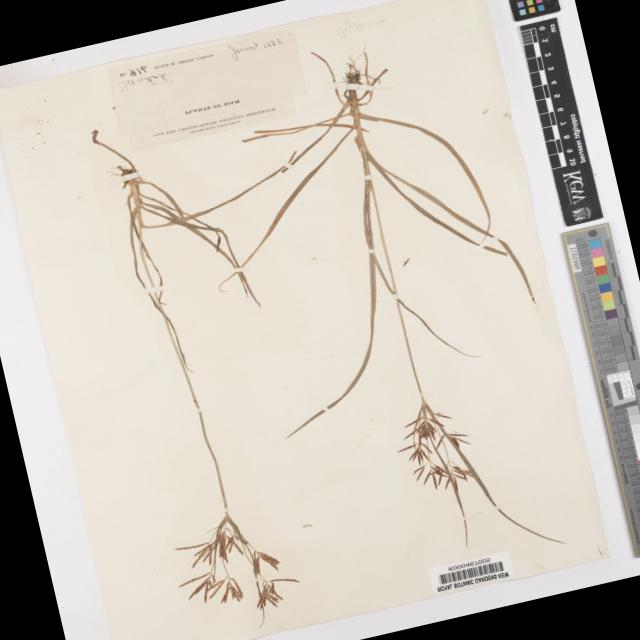cyperus: (159, 498, 310, 630), (388, 392, 488, 499)
